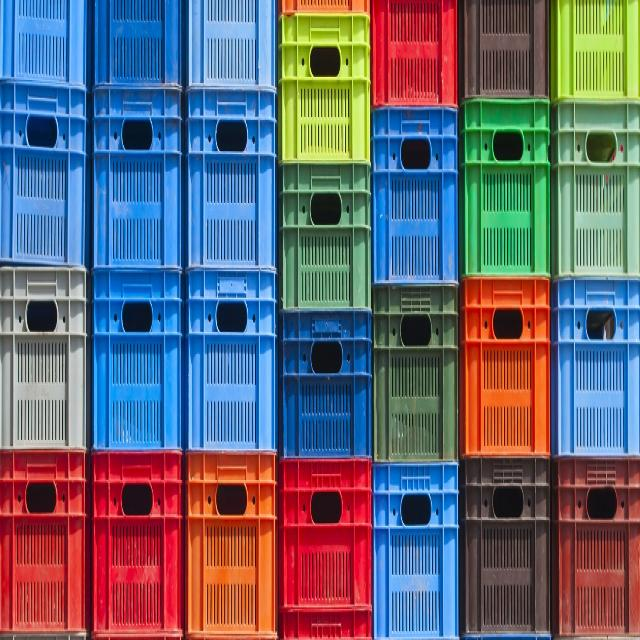basket: (91, 450, 183, 637), (185, 449, 277, 636), (185, 265, 277, 450), (277, 458, 372, 637), (458, 454, 551, 636), (0, 447, 89, 633), (92, 267, 182, 448), (459, 96, 550, 275), (92, 82, 181, 265), (185, 87, 276, 264), (459, 279, 550, 456), (0, 78, 85, 263), (0, 265, 86, 447), (371, 461, 459, 637), (372, 281, 459, 459), (371, 106, 459, 281), (278, 160, 372, 307), (279, 308, 372, 456), (278, 11, 370, 160), (371, 0, 458, 106), (185, 0, 276, 83)
